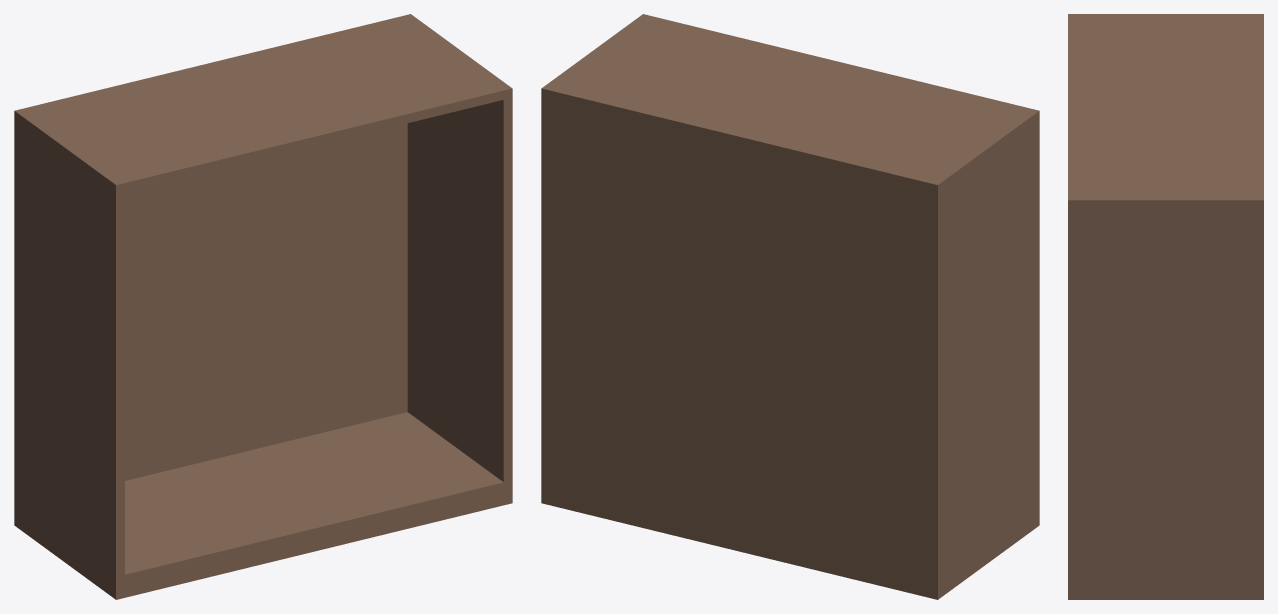
Rendered from Dresser1_C1.fbx.
3 views of the same model, side by side, from view 1: azimuth 30°, elevation 25°; view 2: azimuth 150°, elevation 25°; view 3: azimuth 270°, elevation 25° (orthographic). The views are drawn at different scales.
Parts seen in each view (by area): view 1: Dresser1_C1; view 2: Dresser1_C1; view 3: Dresser1_C1.
Boxes of the visible parts, x1,y1,x2,y2 form: Dresser1_C1: [14, 14, 512, 599]; Dresser1_C1: [541, 14, 1039, 599]; Dresser1_C1: [1068, 14, 1263, 599].
Size of the model in its own units: 90 by 90 by 40.
